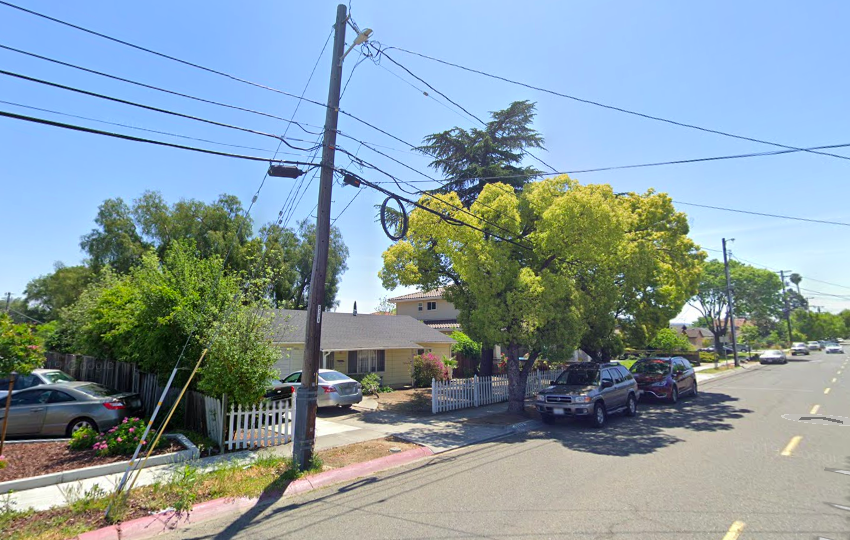tree: (378, 172, 636, 417)
utility_pole: (289, 2, 381, 189)
